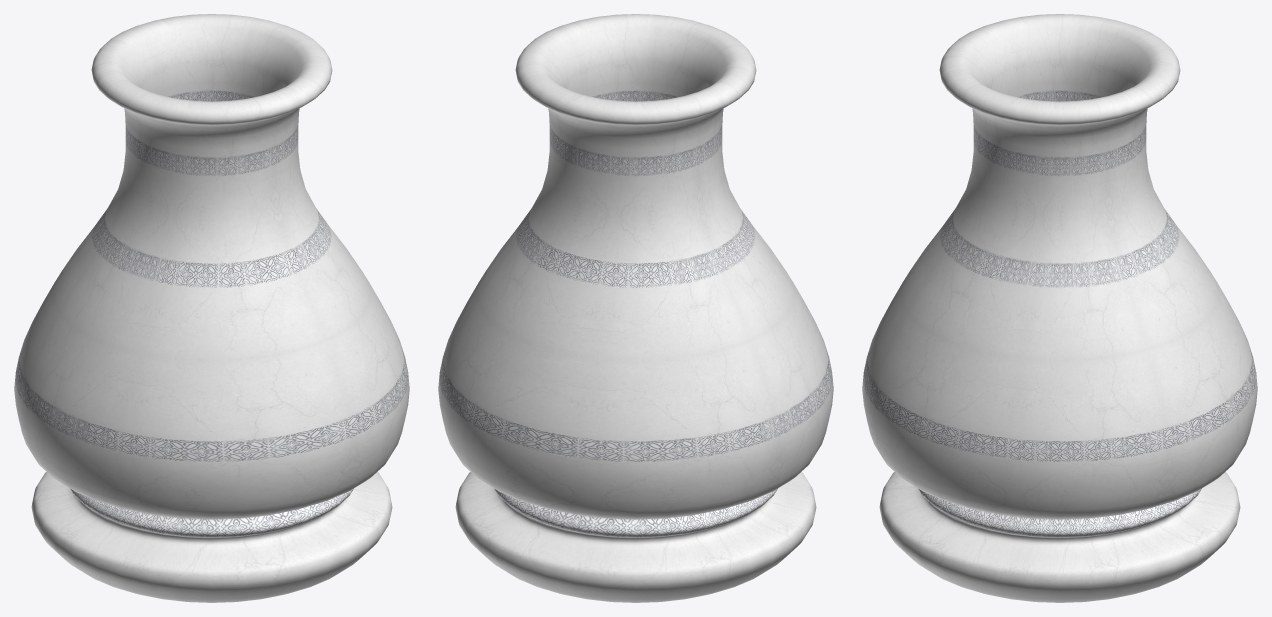
Rendered from Vase_02.FBX.
3 views of the same model, side by side, from view 1: azimuth 30°, elevation 25°; view 2: azimuth 150°, elevation 25°; view 3: azimuth 270°, elevation 25° (orthographic).
Visible parts, largest first — view 1: Vase_02; view 2: Vase_02; view 3: Vase_02.
Boxes of the visible parts, bbox=[...] form: Vase_02: bbox=[14, 14, 409, 602]; Vase_02: bbox=[438, 14, 833, 602]; Vase_02: bbox=[862, 14, 1257, 602].
Size of the model in its own units: 42.72 by 57.96 by 42.72.
